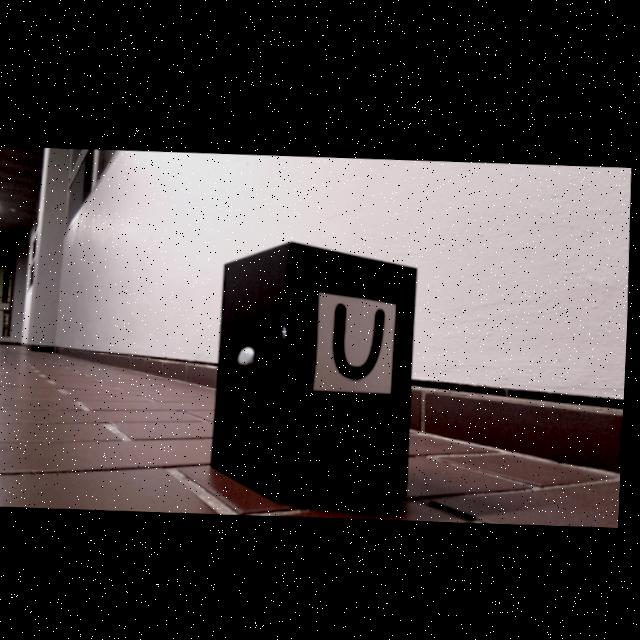U: (335, 300, 388, 375)
